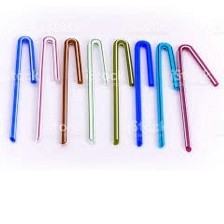drinking_straw: (174, 39, 222, 155), (8, 31, 38, 145), (56, 33, 85, 148), (83, 32, 110, 145), (131, 34, 155, 150)
